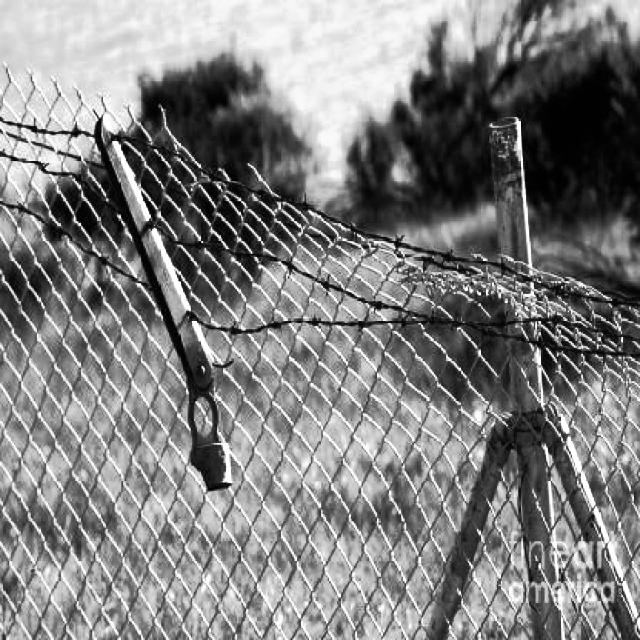anomaly-fence: (109, 100, 640, 492)
